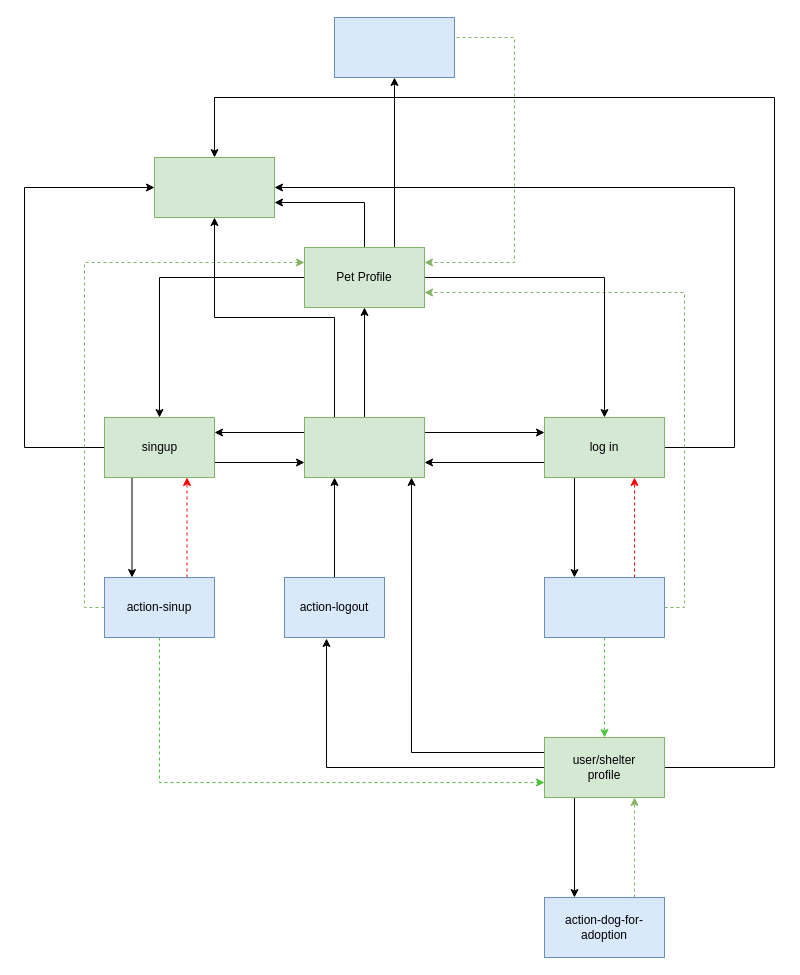
The diagram is 800 pixels wide and 975 high, and some of its shapes have lost their labels. The centre of each missing label's shape, as x and y in pixels:
"action-adopt-dog" goes at (x=394, y=47).
"action-login" goes at (x=604, y=607).
"index" goes at (x=364, y=447).
"Search" goes at (x=214, y=187).
